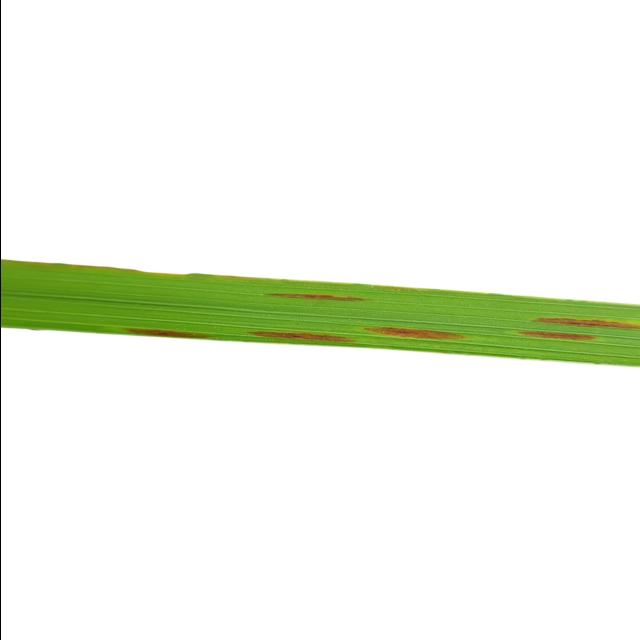Narrow brown: (0, 159, 640, 388)
